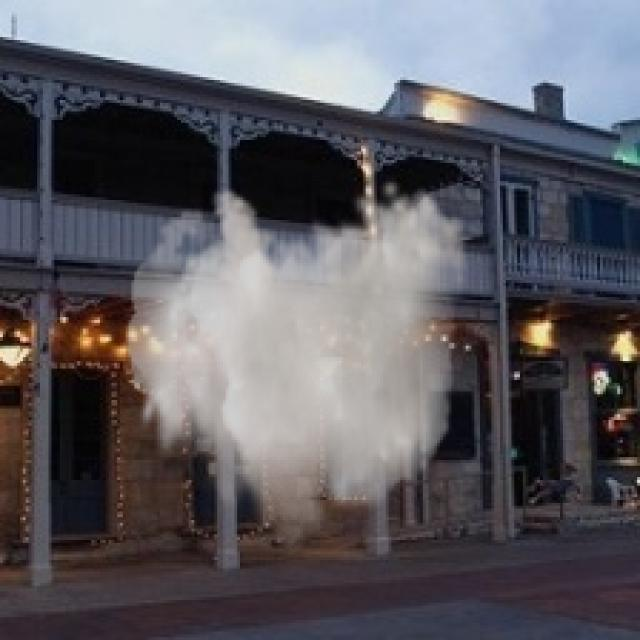smoke: (126, 174, 468, 560)
